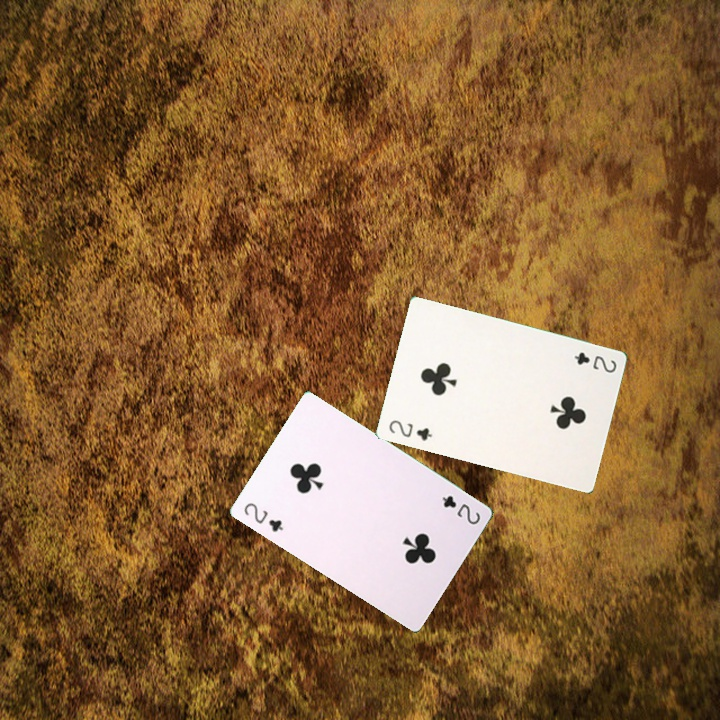2c: (240, 498, 286, 535), (438, 491, 483, 527), (385, 416, 435, 444), (570, 348, 619, 376)
